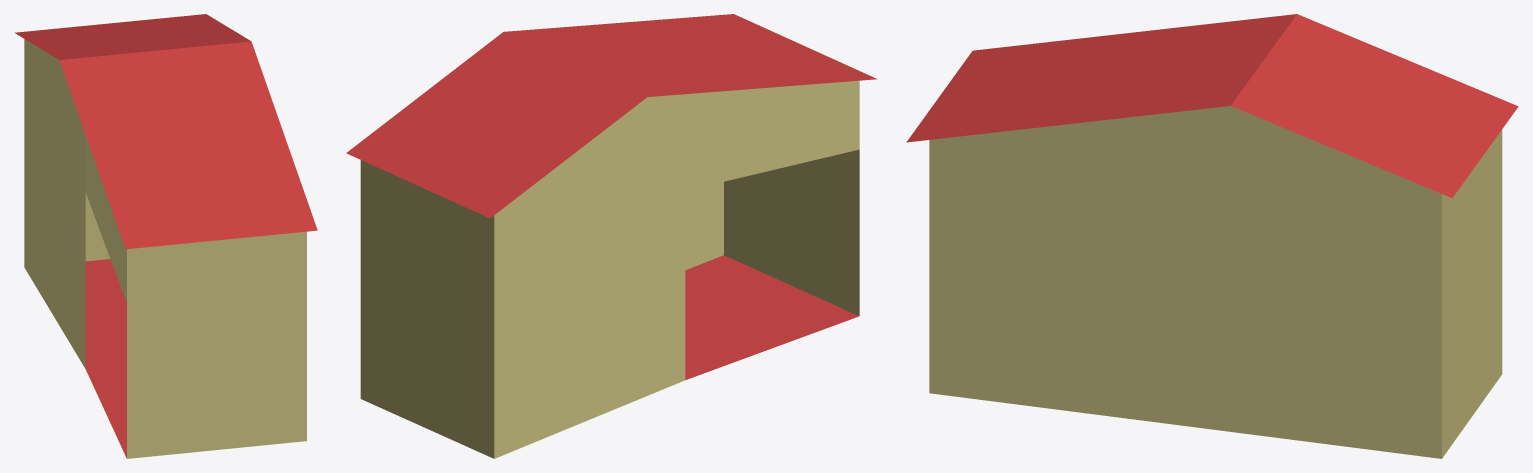
The picture shows the model from 3 angles, left to right: view 1: azimuth 30°, elevation 25°; view 2: azimuth 150°, elevation 25°; view 3: azimuth 270°, elevation 25°; orthographic projection. The views are drawn at different scales.
Bounding box in the file's own units: 11.21 × 17.87 × 10.61.
